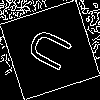U: (25, 25, 82, 78)
